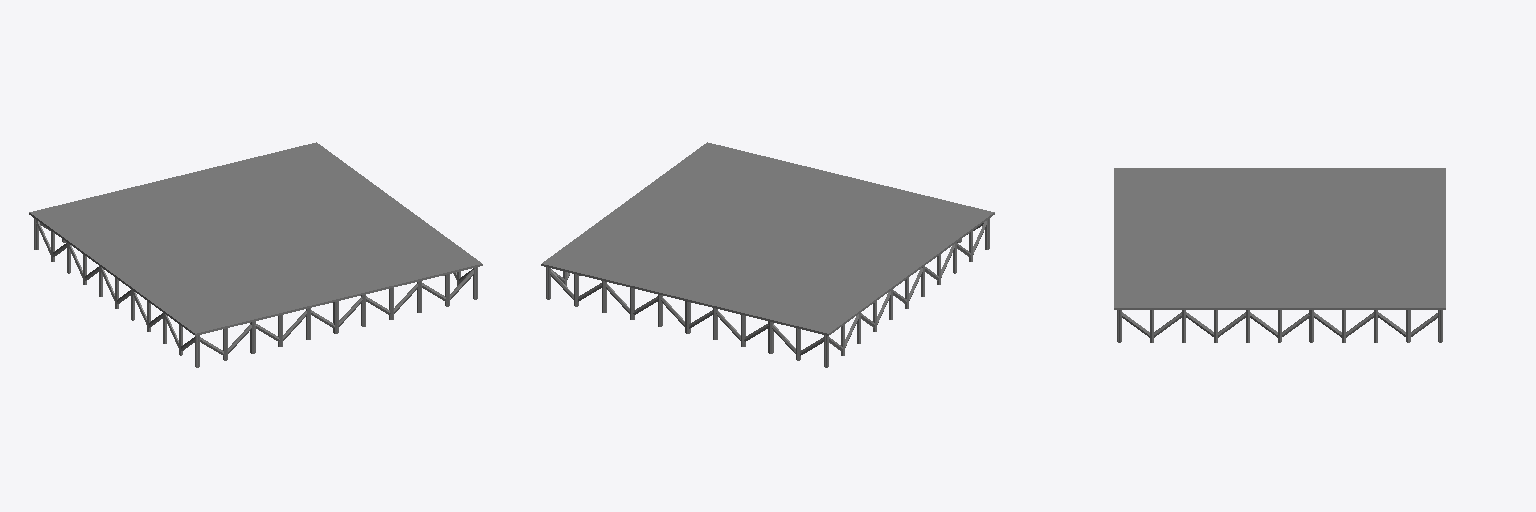
Rendered from stage.obj.
3 renders of one model, left to right at view 1: azimuth 30°, elevation 25°; view 2: azimuth 150°, elevation 25°; view 3: azimuth 270°, elevation 25°, orthographic.
Visible parts, largest first — view 1: FLOOR01; view 2: FLOOR01; view 3: FLOOR01.
Boxes of the visible parts, box(x1,y1,x2,y2) form: FLOOR01: box(29, 142, 482, 367); FLOOR01: box(541, 142, 994, 367); FLOOR01: box(1114, 168, 1445, 342).
Size of the model in its own units: 24.17 by 2.88 by 24.17.